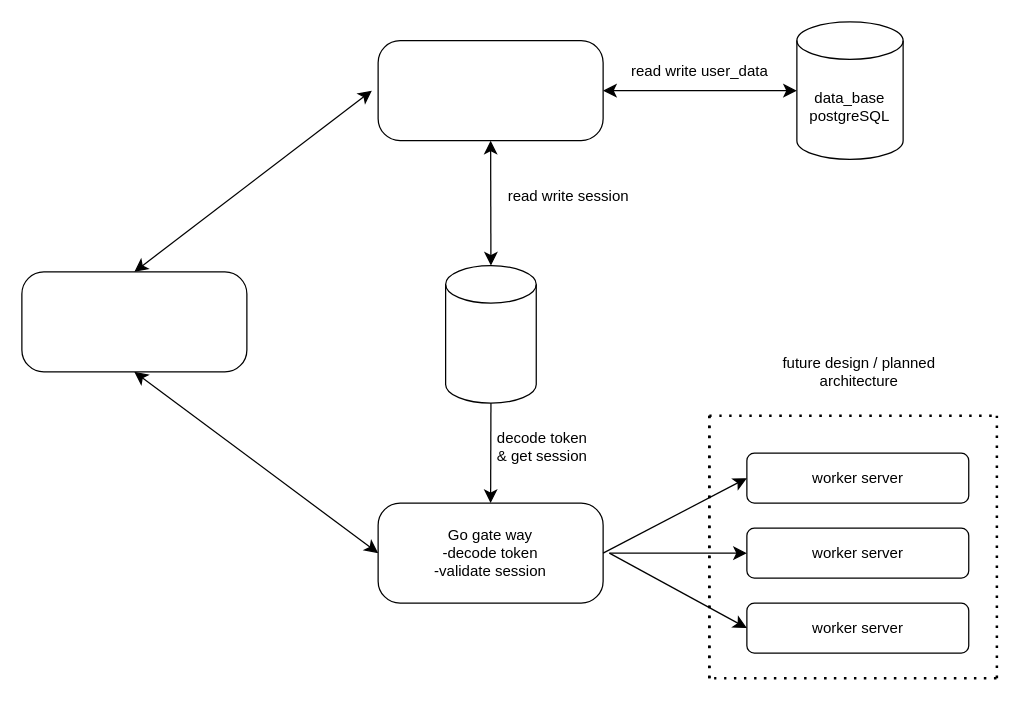
This 1026x703 diagram has some shape labels left out. Each missing label, with the centre of its shape:
"client" goes at (x=134, y=321).
"Redis session cache" goes at (x=490, y=333).
"Rust auth server - issue token -validate session -control policy_version" goes at (x=490, y=90).
